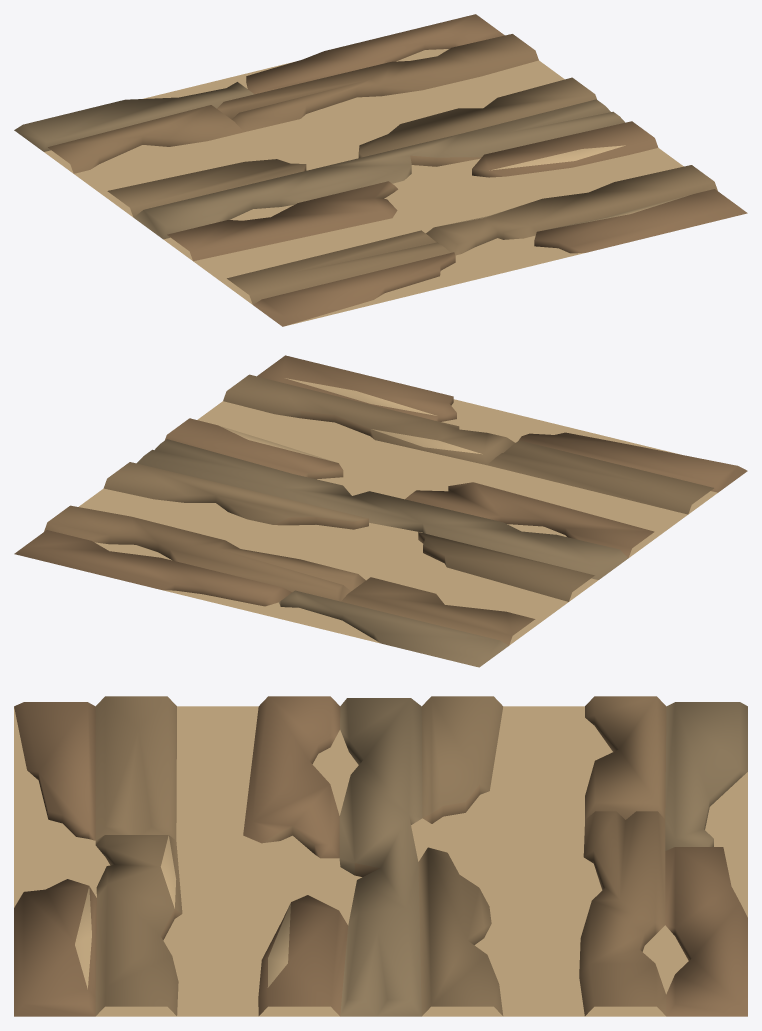
The model's file is rpgpp_av_floor_02f_3x3.gltf.
3 views of the same model, one above another, from view 1: azimuth 30°, elevation 25°; view 2: azimuth 150°, elevation 25°; view 3: azimuth 270°, elevation 25° (orthographic). The views are drawn at different scales.
Parts seen in each view (by area): view 1: rpgpp_av_floor_02f_3x3; view 2: rpgpp_av_floor_02f_3x3; view 3: rpgpp_av_floor_02f_3x3.
Part boxes in pixels (box(x1,y1,x2,y2)): rpgpp_av_floor_02f_3x3: box(14, 14, 747, 326); rpgpp_av_floor_02f_3x3: box(14, 355, 747, 667); rpgpp_av_floor_02f_3x3: box(14, 696, 747, 1016).
Bounding box in the file's own units: 0.03 × 0.000584 × 0.03.
1 material, 1 textured.
